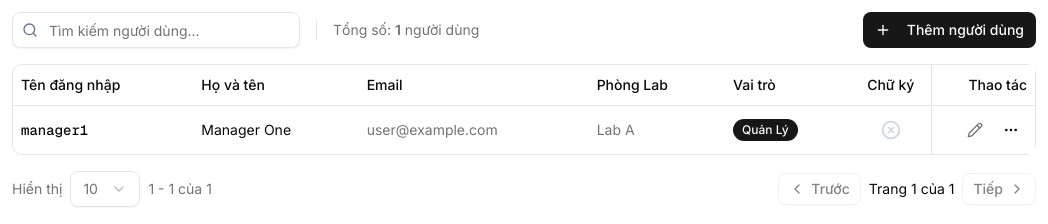
UserListTable row actions › omits OTP configuration for the current manager row
What coordinates should you click on to do the following:
click the button named "Mở menu thao tác cho manager1"
I would click on:
 (1011, 130)
Its box is [995,114,1027,146].
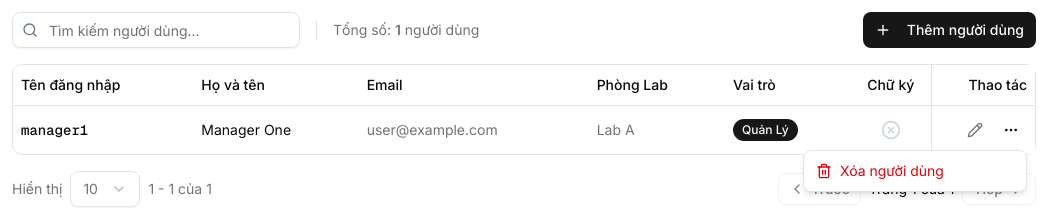
Now the menu item "Xóa người dùng" is shown, box [816,162,944,179]
